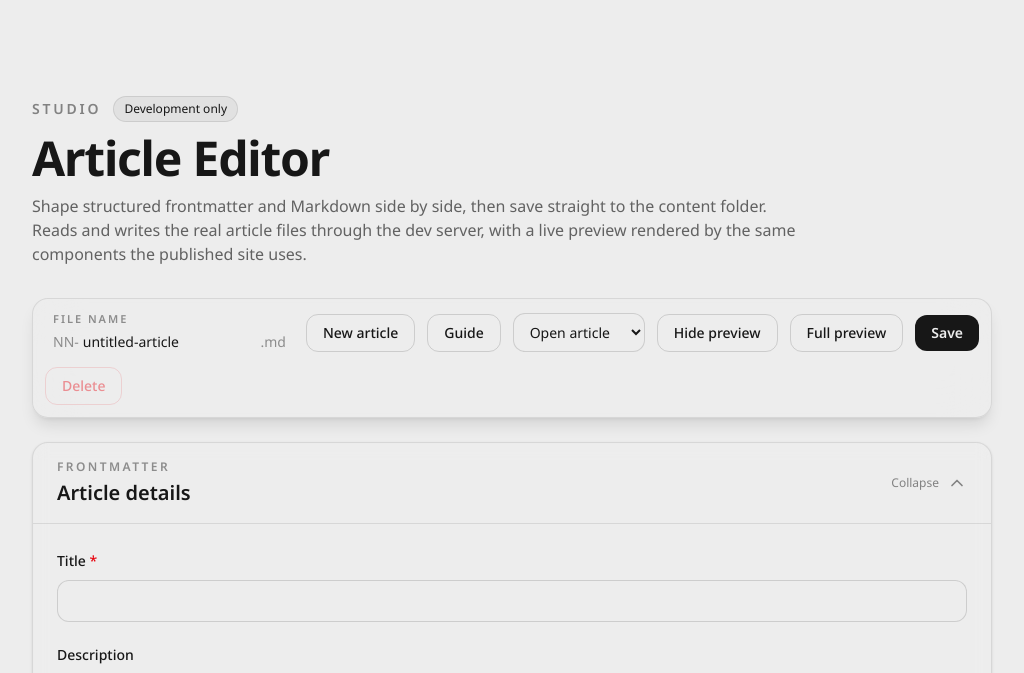
ArticleEditor › keeps the edits dirty when a save fails
Type "New post" into the field labelled "Title *".
click(512, 600); type("New post")  # box 57,580 -> 967,622
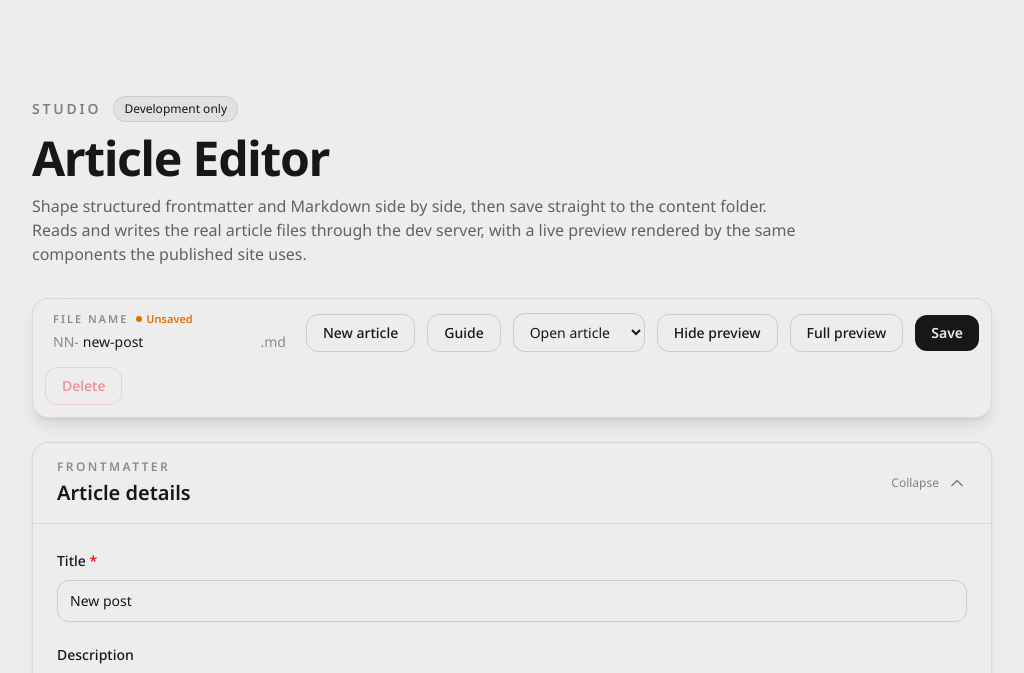
Click the button "Save".
click(947, 333)  # box 915,315 -> 979,351
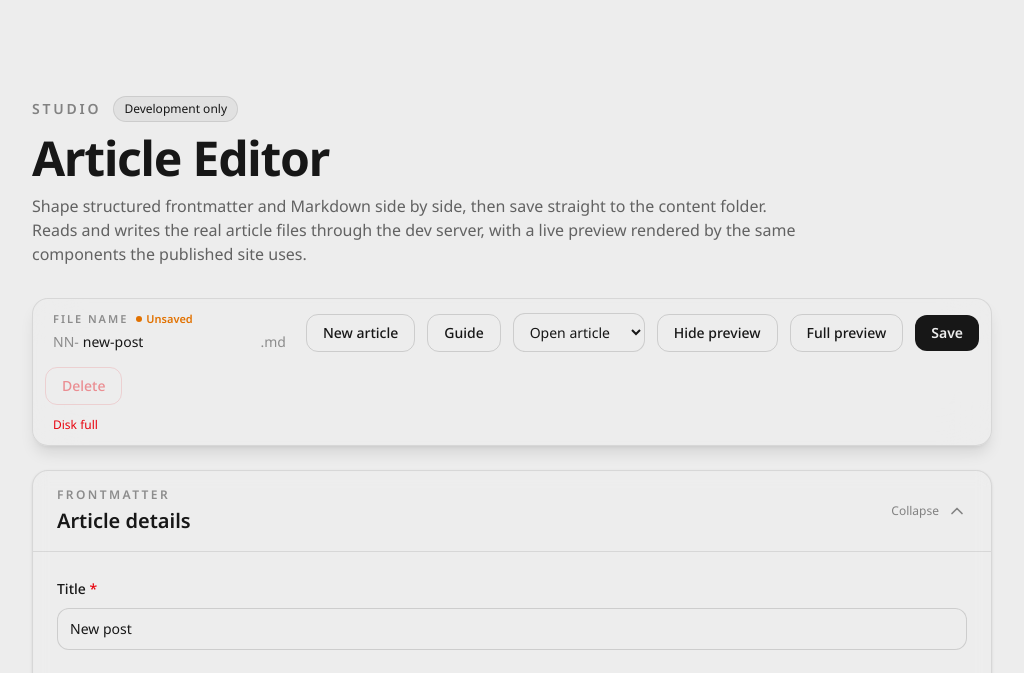
Check: the text "Unsaved" is shown, box 136,311 -> 193,328
Check: the message reads "Disk full", box 53,416 -> 98,432
